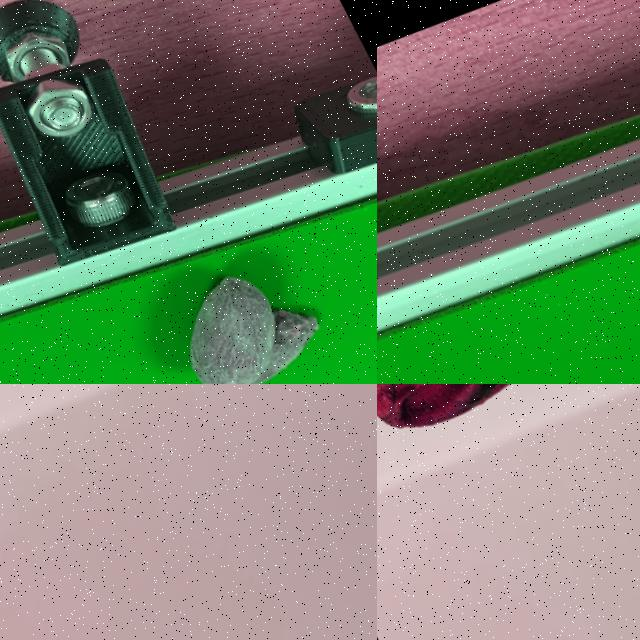Agglomerated_cocoabeans: (64, 158, 376, 383)
Flat_cocoabeans: (377, 384, 639, 501)
